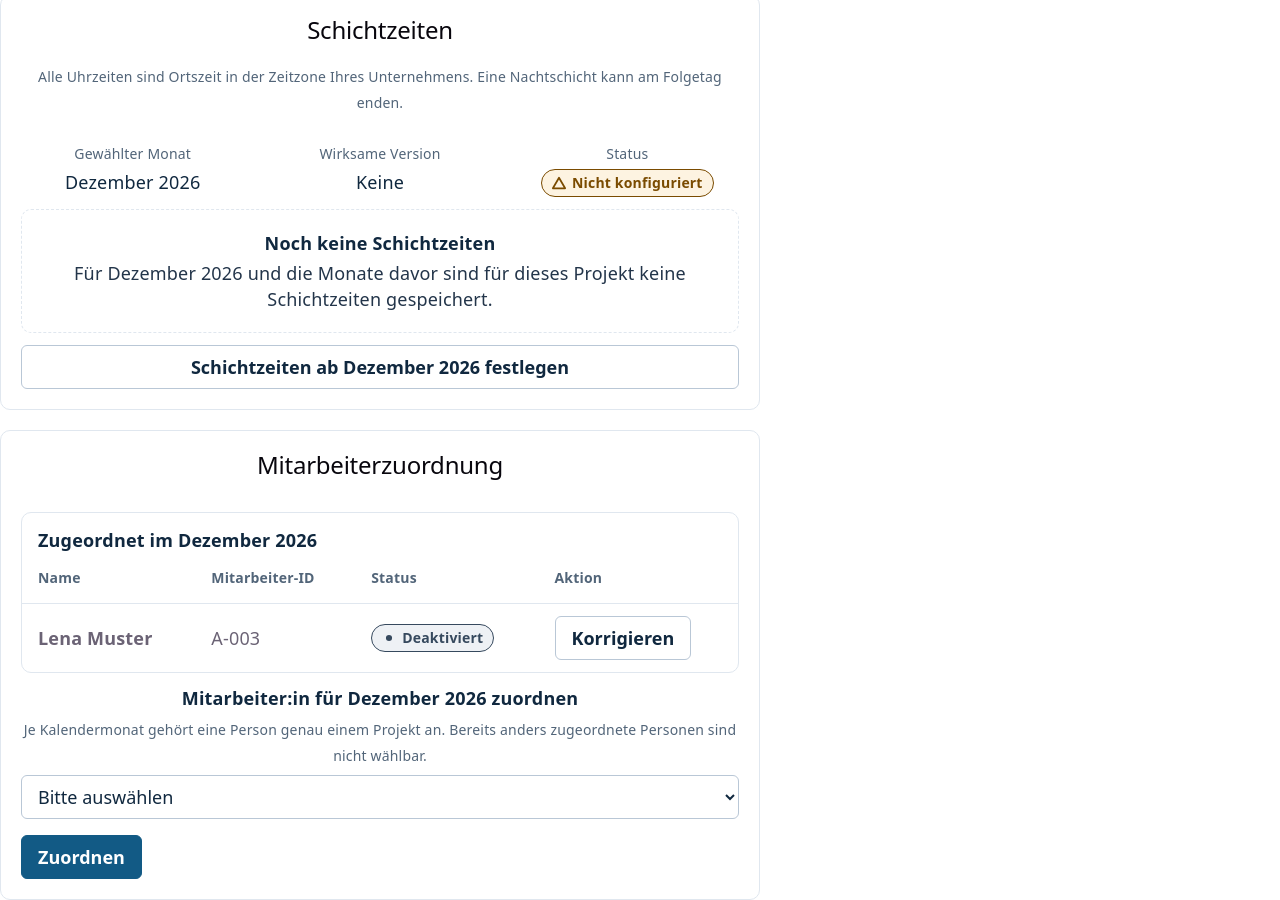
Test: SP-09 — month assignment (UX A09, real API source) › shows the approved EMPLOYEE_INACTIVE error safely
The image size is (1280, 900).
(page scrolled)
Select "Mira Beispiel (A-001)" in the dropdown labelled "Mitarbeiter:in für Dezember 2026 zuordnen": (380, 797) [21, 775, 739, 819]
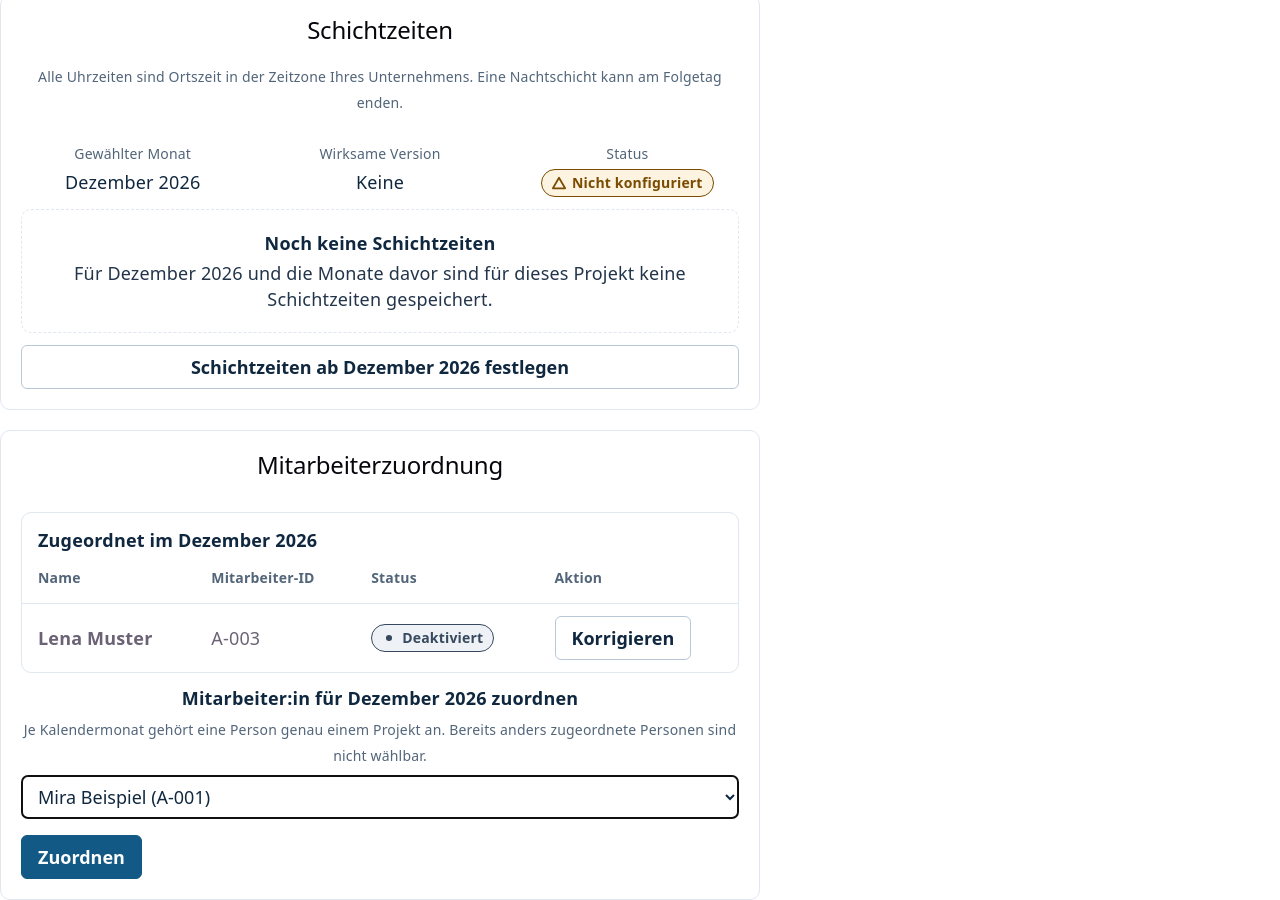
Click the button "Zuordnen": click(81, 857) [21, 835, 142, 879]
(page scrolled)
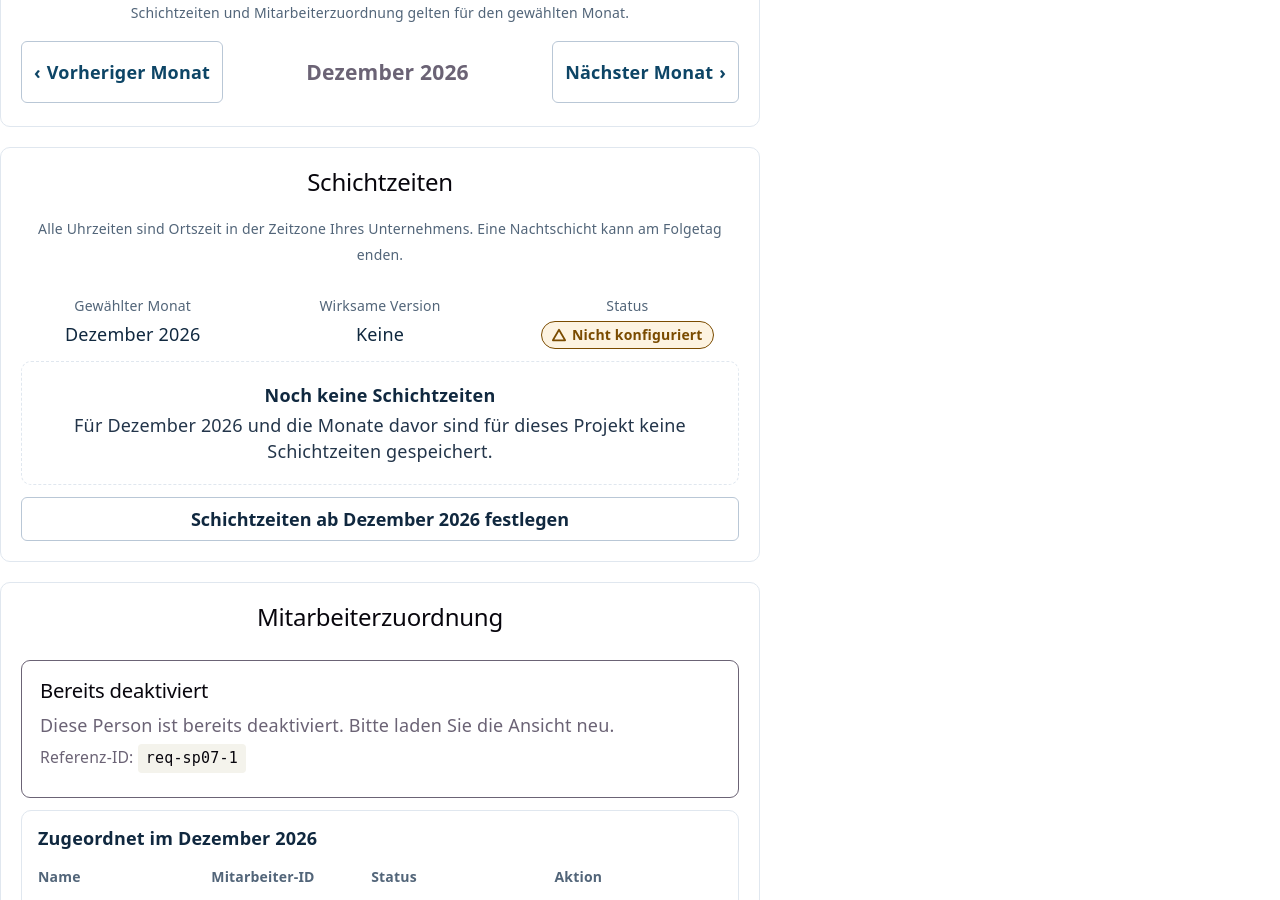
Result: the message shows "Bereits deaktiviert" at [40, 676, 208, 704]
Result: the message shows "req-sp07-1" at [146, 750, 238, 768]
